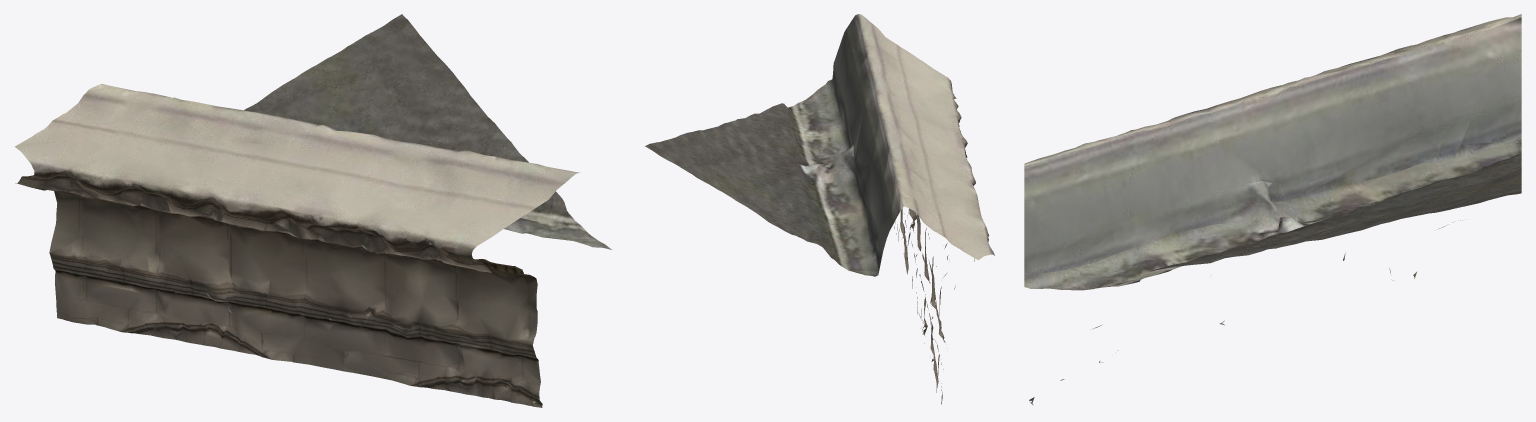
The picture shows the model from 3 angles, left to right: view 1: azimuth 30°, elevation 25°; view 2: azimuth 150°, elevation 25°; view 3: azimuth 270°, elevation 25°; orthographic projection. The views are drawn at different scales.
Bounding box in the file's own units: 6.11 × 3.41 × 5.82.
1 material, 1 textured.
